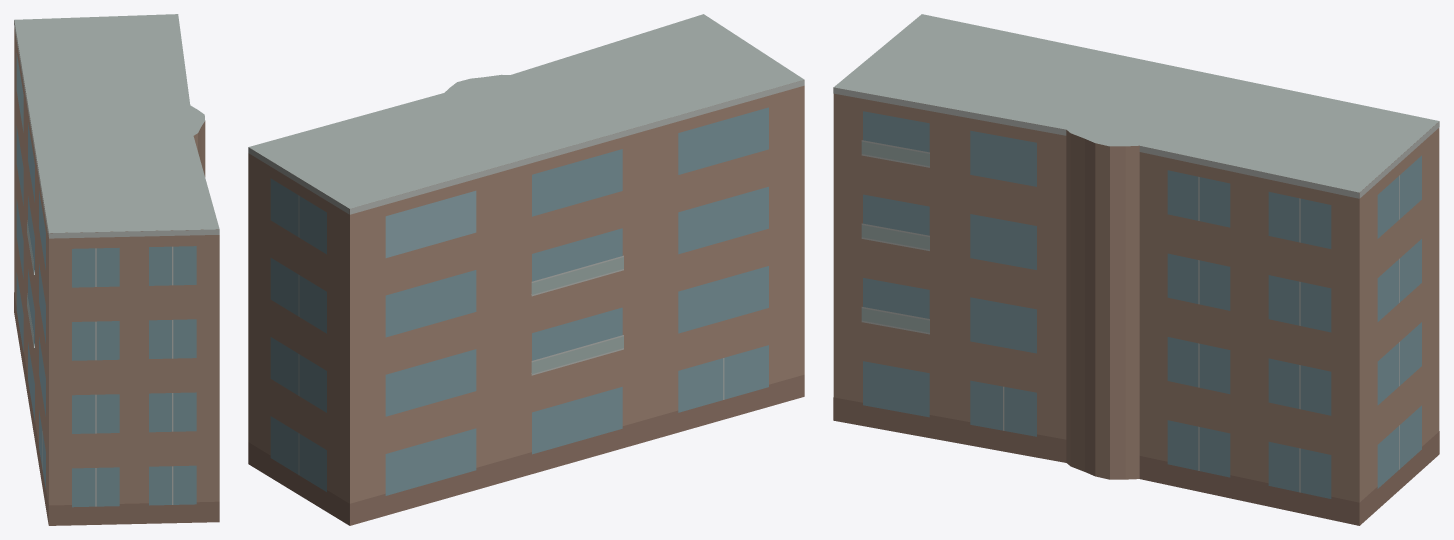
Rendered from survey-upis-32727851.glb.
The picture shows the model from 3 angles, left to right: view 1: azimuth 30°, elevation 25°; view 2: azimuth 150°, elevation 25°; view 3: azimuth 270°, elevation 25°; orthographic projection. The views are drawn at different scales.
Parts seen in each view (by area): view 1: survey-upis-32727851.tmp; view 2: survey-upis-32727851.tmp; view 3: survey-upis-32727851.tmp.
Boxes of the visible parts, x1,y1,x2,y2 form: survey-upis-32727851.tmp: (14,14,219,525); survey-upis-32727851.tmp: (248,14,804,525); survey-upis-32727851.tmp: (833,14,1439,525).
Size of the model in its own units: 15.07 by 13.1 by 21.6.
